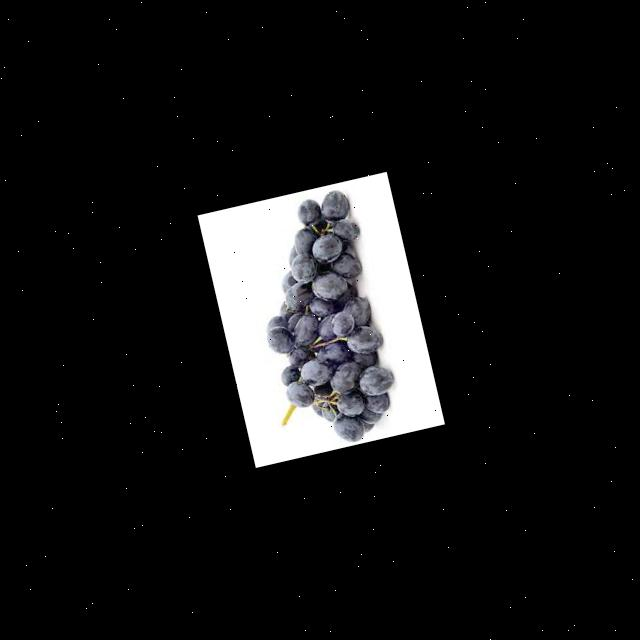grape: (236, 187, 404, 456)
